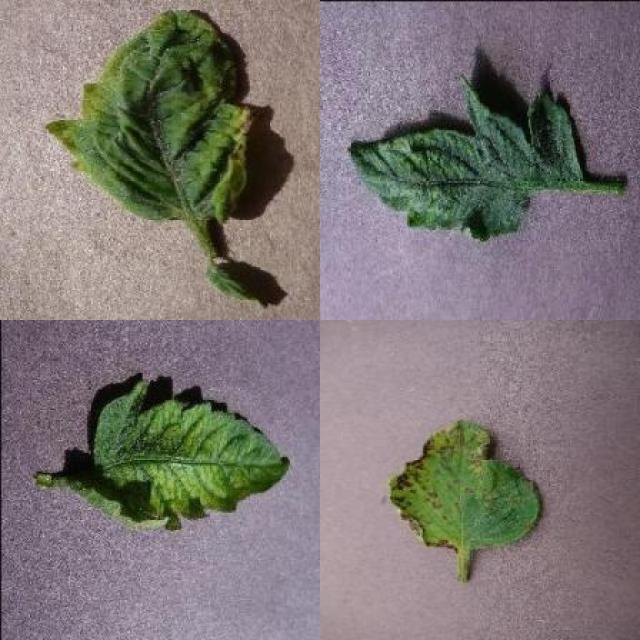Mosaic Virus: (349, 73, 584, 240), (95, 382, 291, 535)
Septoria: (390, 418, 543, 552)
Yellow Leaf Curl Virus: (47, 8, 253, 225)
